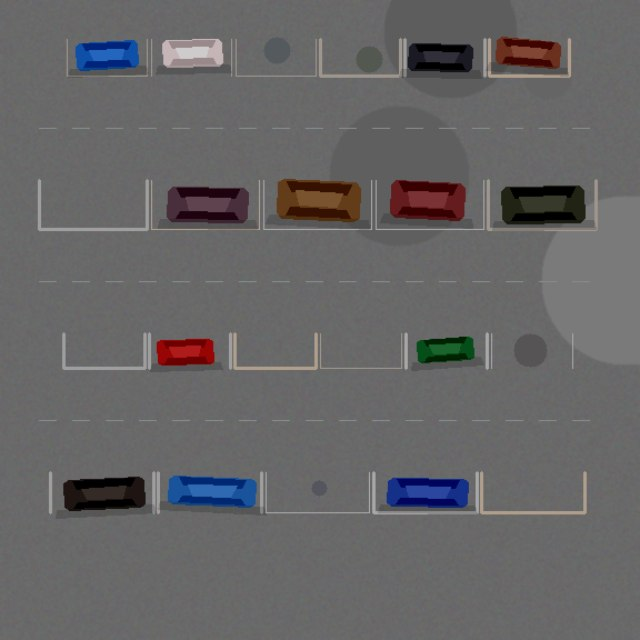space-empty: (39, 180, 147, 229), (266, 472, 369, 512), (481, 472, 584, 512), (236, 39, 316, 76), (320, 39, 400, 76), (234, 333, 316, 368), (63, 333, 144, 368), (320, 333, 401, 368), (491, 333, 572, 368)
space-occupied: (151, 180, 259, 229), (263, 180, 371, 229), (488, 180, 596, 229), (376, 180, 483, 229), (373, 472, 477, 512), (50, 472, 153, 512), (158, 472, 261, 512), (67, 39, 147, 76), (151, 39, 231, 76), (404, 39, 484, 76), (489, 39, 569, 76), (149, 333, 230, 368), (406, 333, 487, 368)
